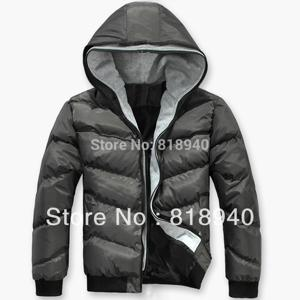C_jacket: (29, 2, 269, 300)
